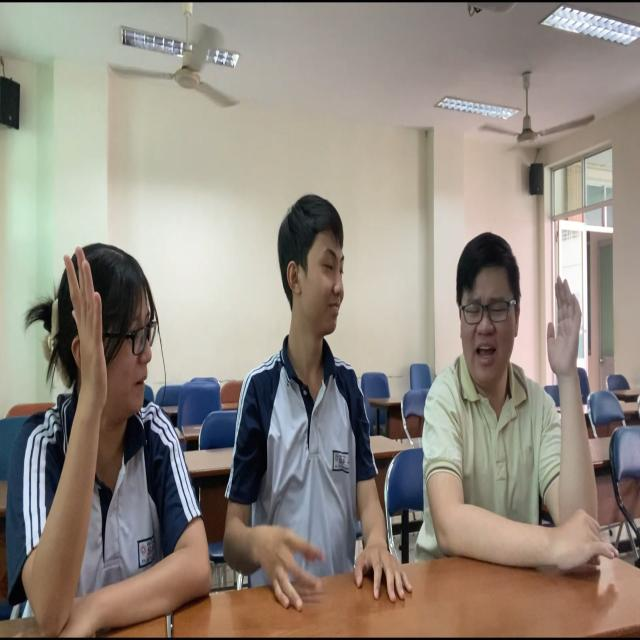raise_hand: (27, 233, 208, 622), (422, 231, 615, 588)
